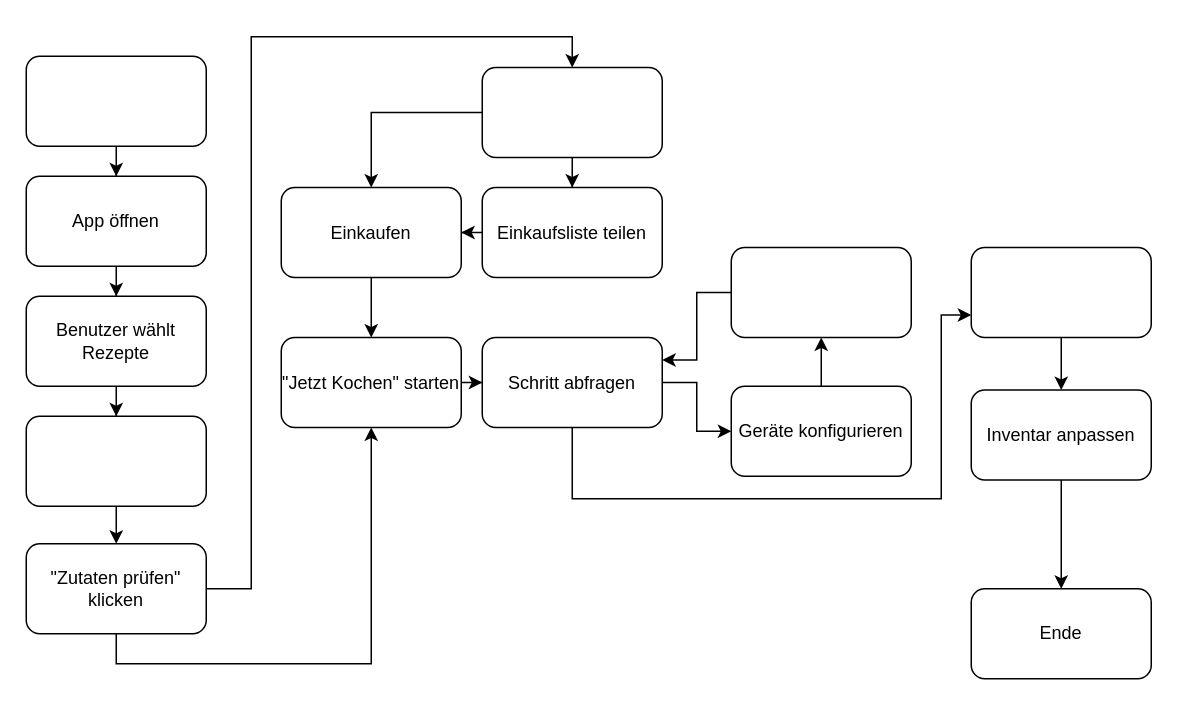
Some shapes in this 1178 by 705 pixel diagram are drawn without their labels. The shapes that lost their labels are listed below. From the top down, each one's centre as x and y in pixels, then its label:
At point 115,100: "Start".
At point 571,112: "Fehlende Zutaten zur Einkaufsliste übertragen".
At point 820,292: "Timer abwarten".
At point 1060,292: "Kochvorgang abschließen".
At point 115,460: "Benutzer wählt ein Rezept".
